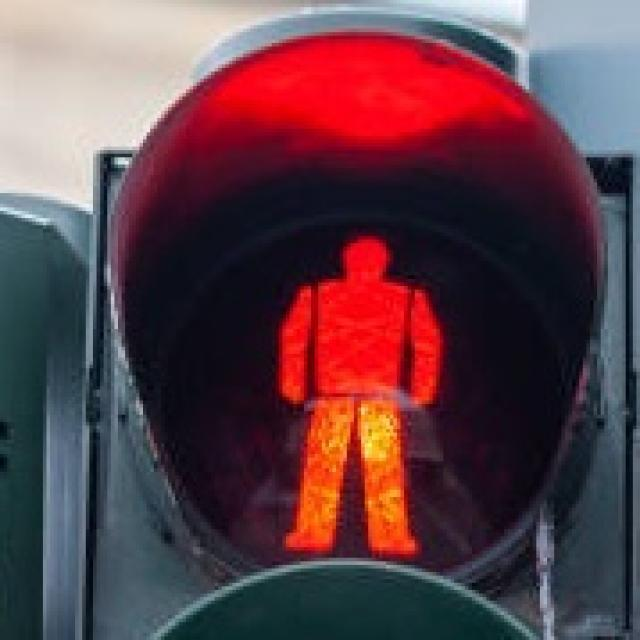red_light: (261, 207, 451, 572)
